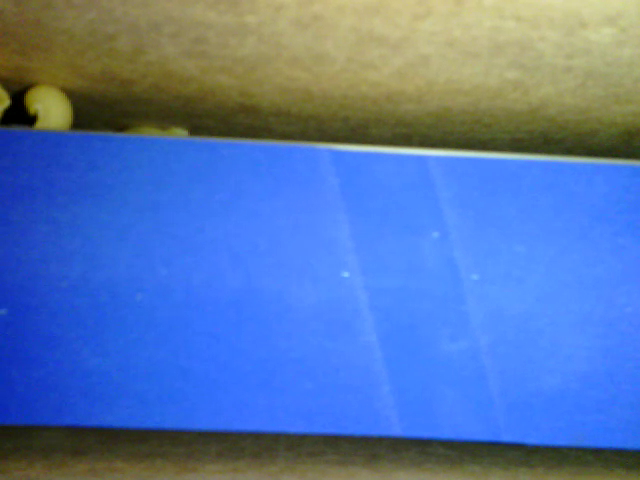shell: (19, 82, 73, 132)
